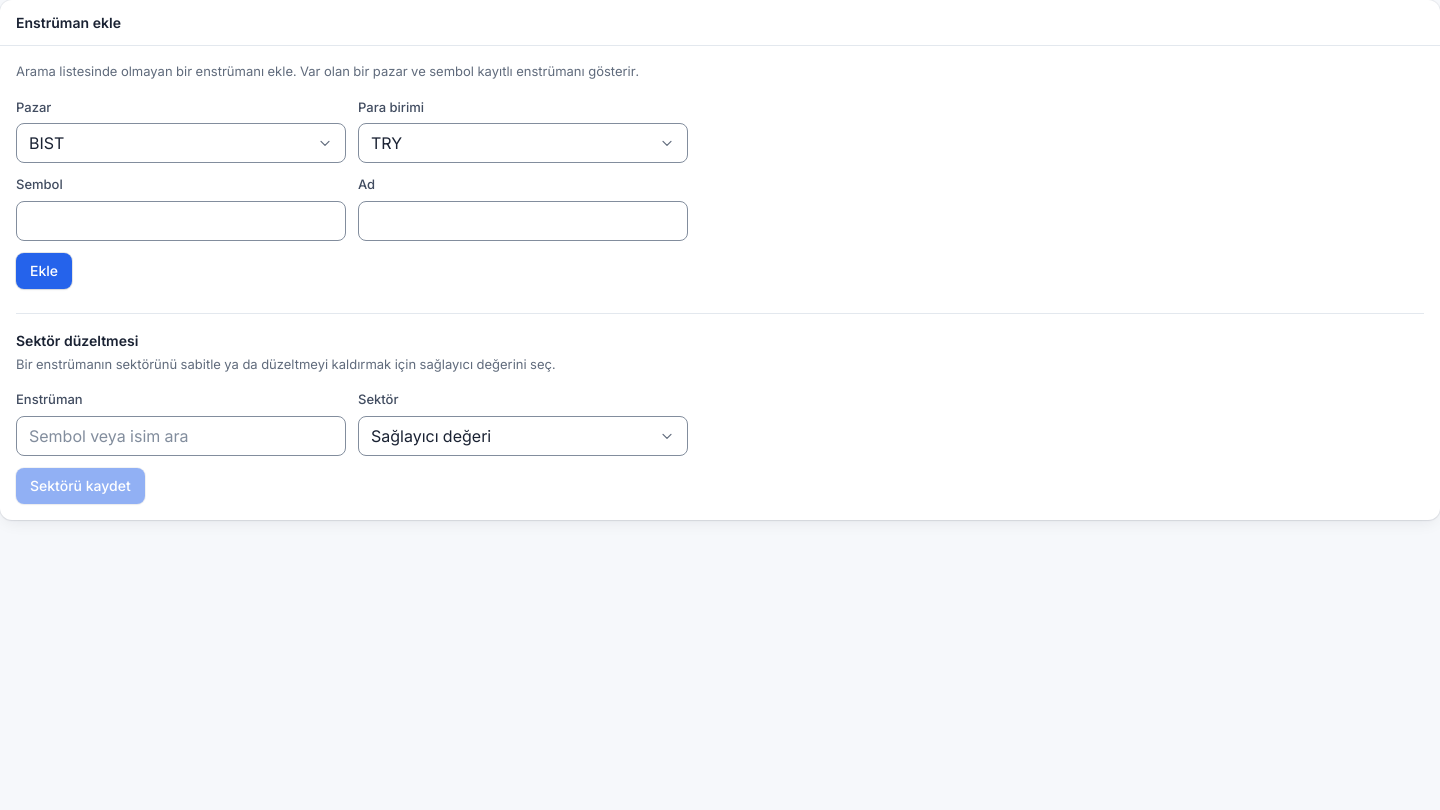
InstrumentsSection › sector override › prefills the override and sends null for the provider value
expect the button "Sektörü kaydet" is disabled: met, box [16,468,145,504]
Step 1. Type "THY" into the dropdown labelled "Enstrüman" → point(181, 436), box [16,416,346,456]
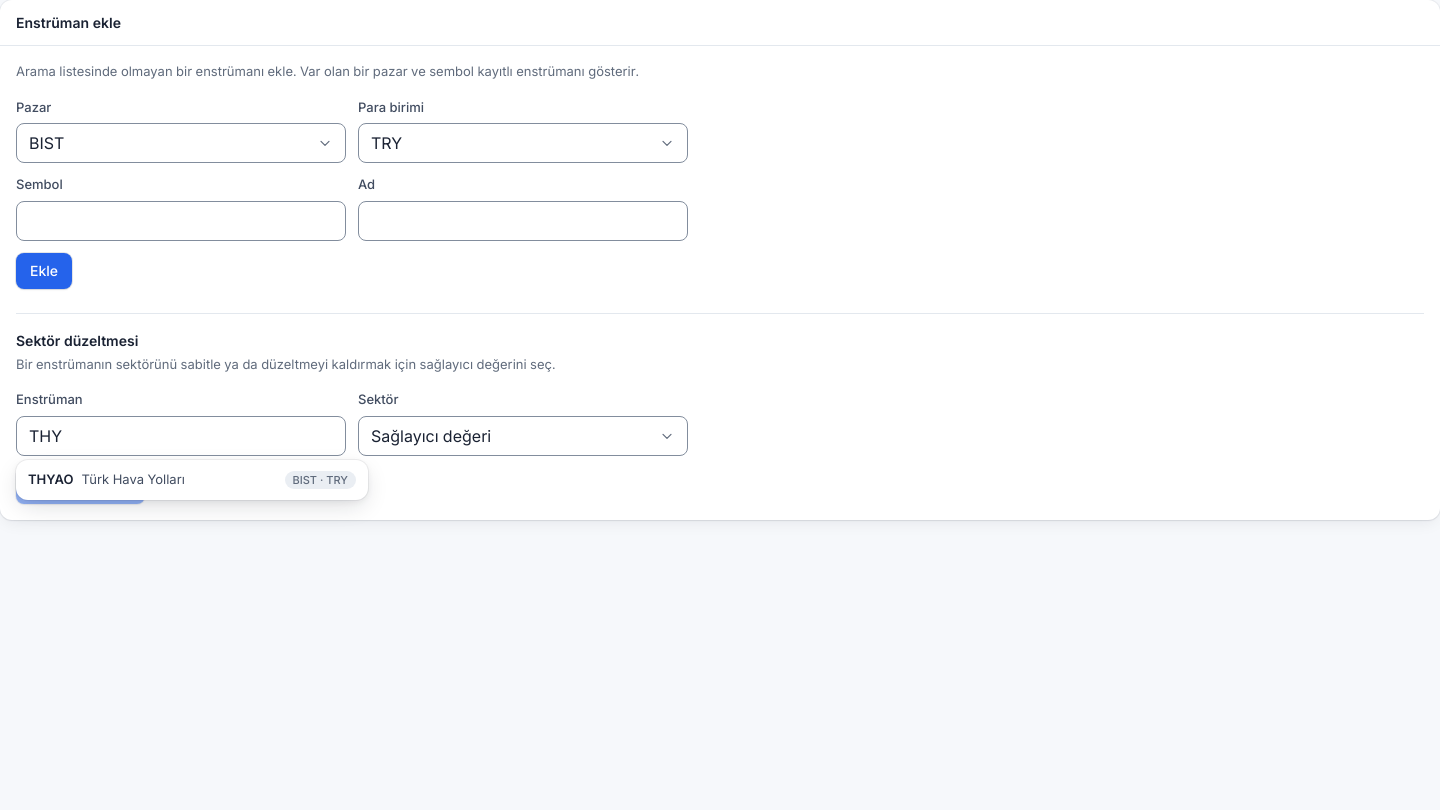
Step 2. Click the option "THYAO Türk Hava Yolları BIST · TRY" → point(51, 479), box [28,471,356,489]
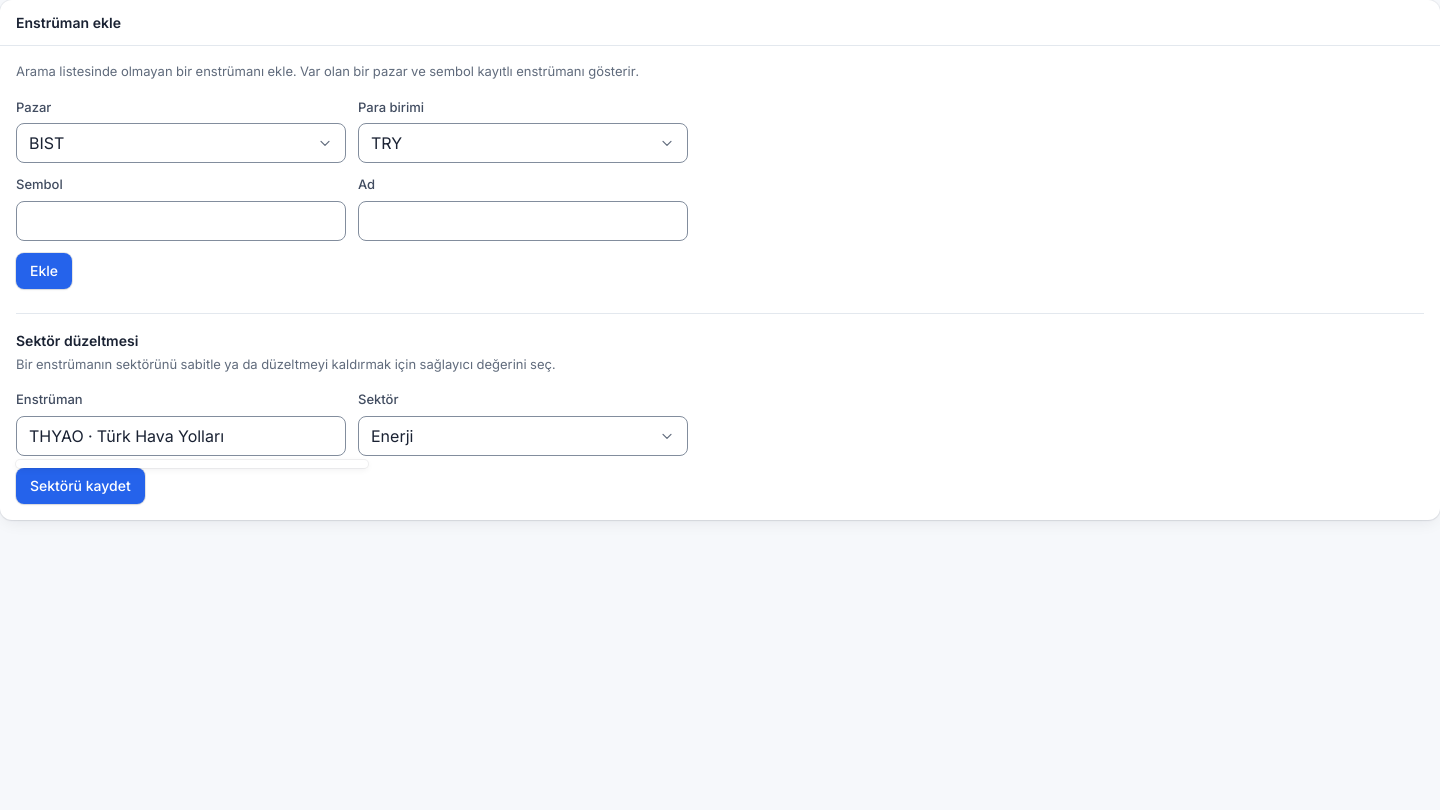
expect the dropdown named "Sektör" reads "Enerji": met
Step 3. Click the dropdown named "Sektör" → point(392, 436), box [358,416,688,456]
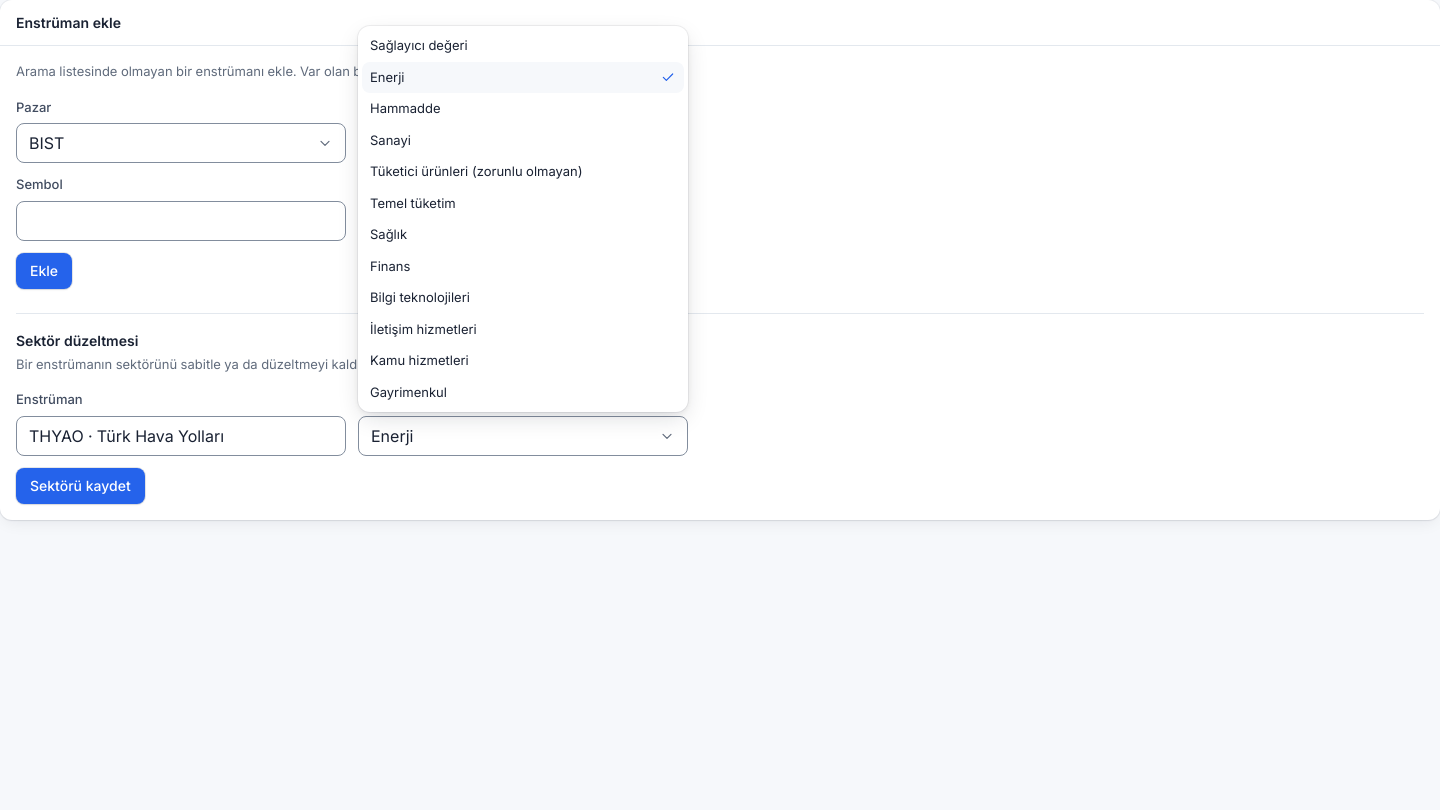
expect the list is shown: met, box [362,30,684,408]
Step 4. Click the option "Sağlayıcı değeri" → point(419, 45), box [370,37,468,53]
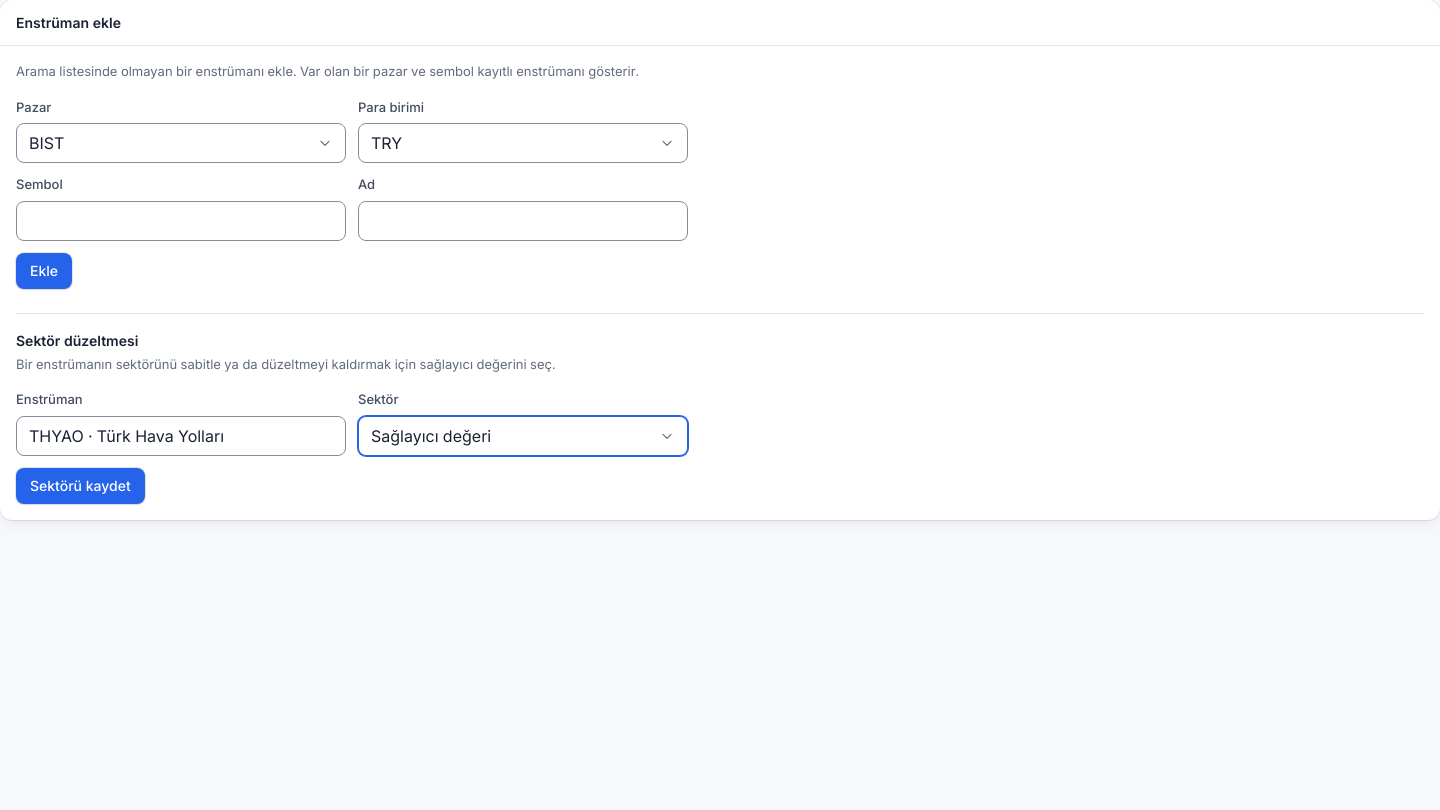
expect the list is gone: met
Step 5. Click the button "Sektörü kaydet" → point(80, 486), box [16,468,145,504]
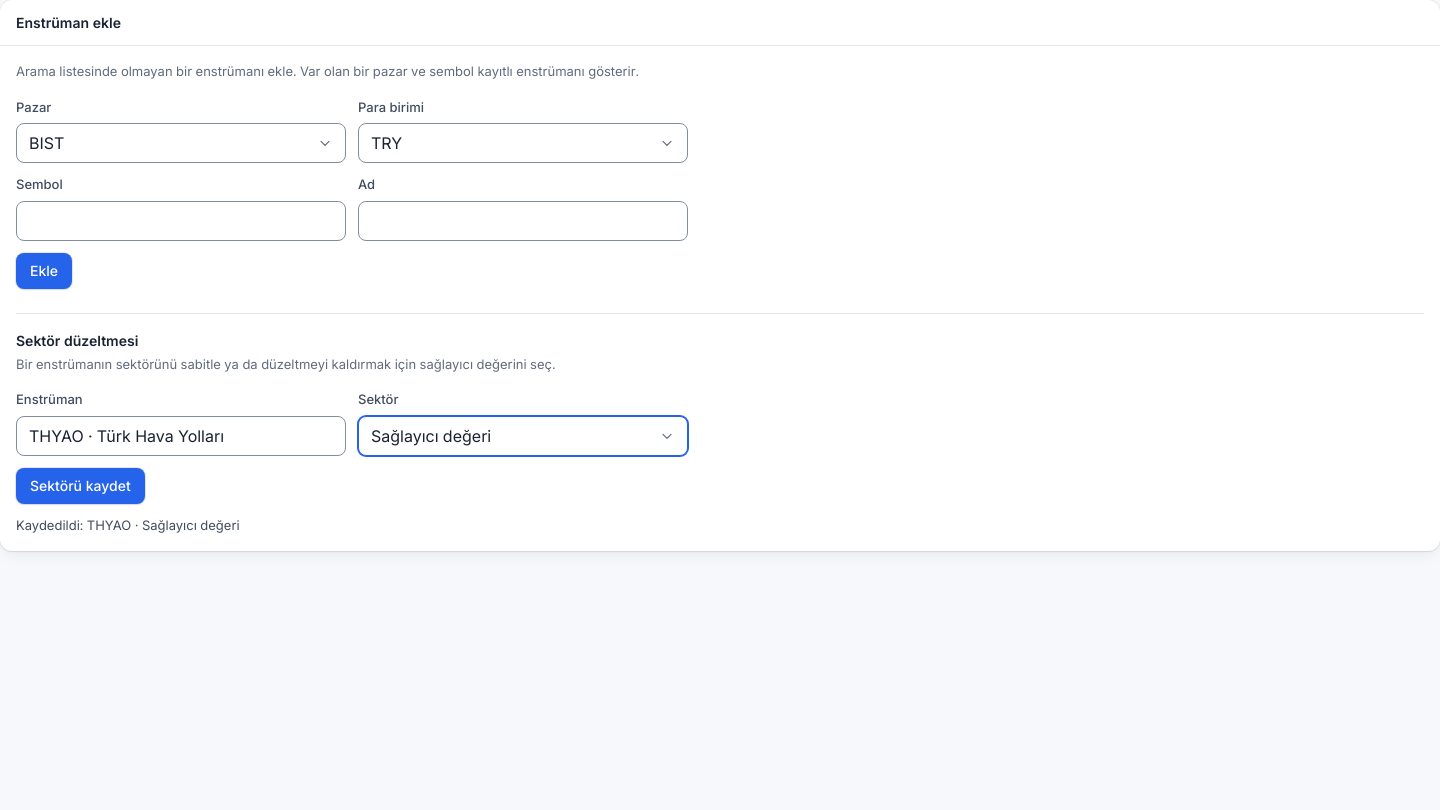
expect the text "Kaydedildi: THYAO · Sağlayıcı değeri" is shown: met, box [16,516,240,532]
